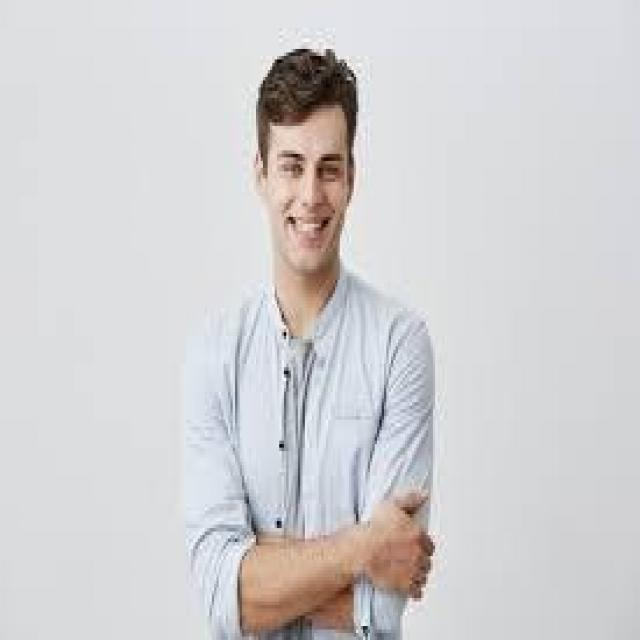person: (177, 49, 435, 636)
